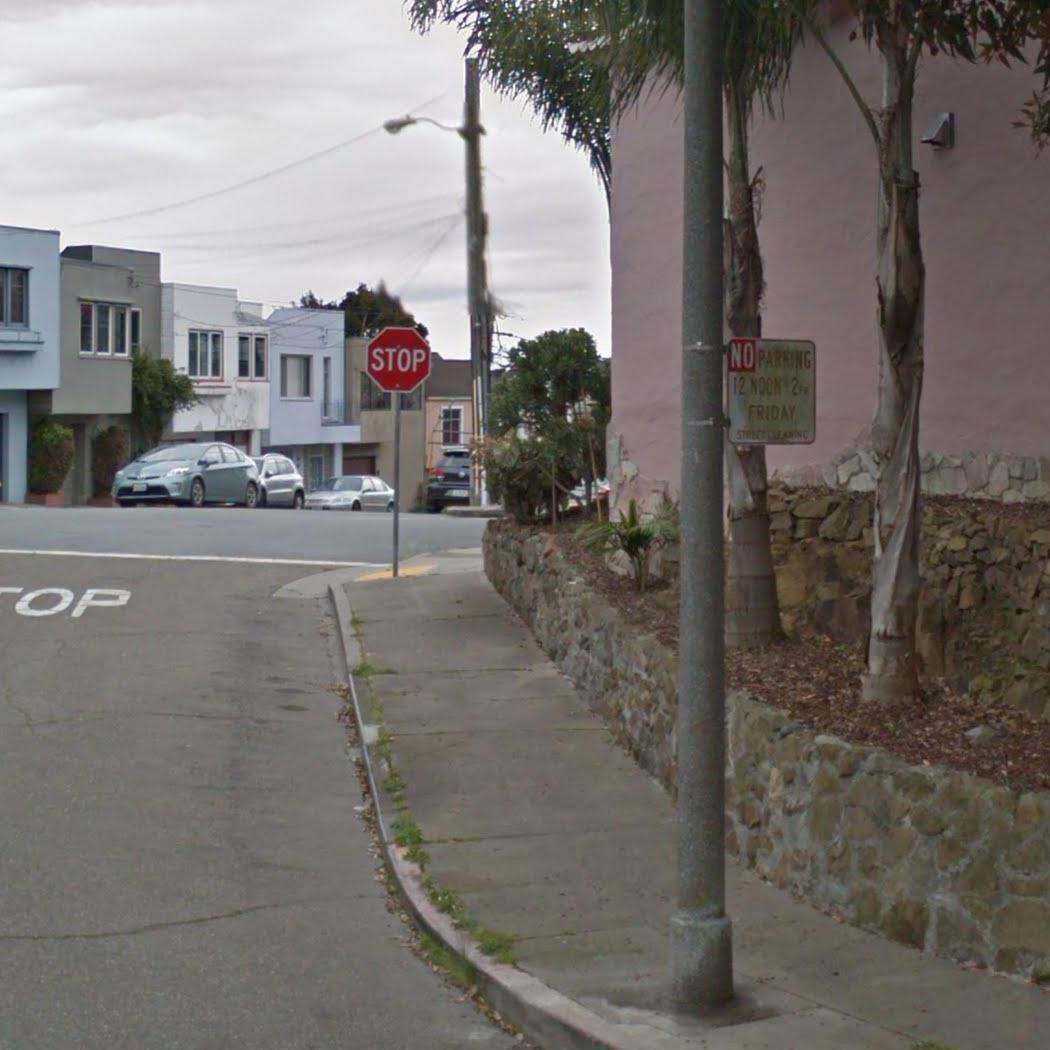No Parking: (721, 335, 821, 446)
